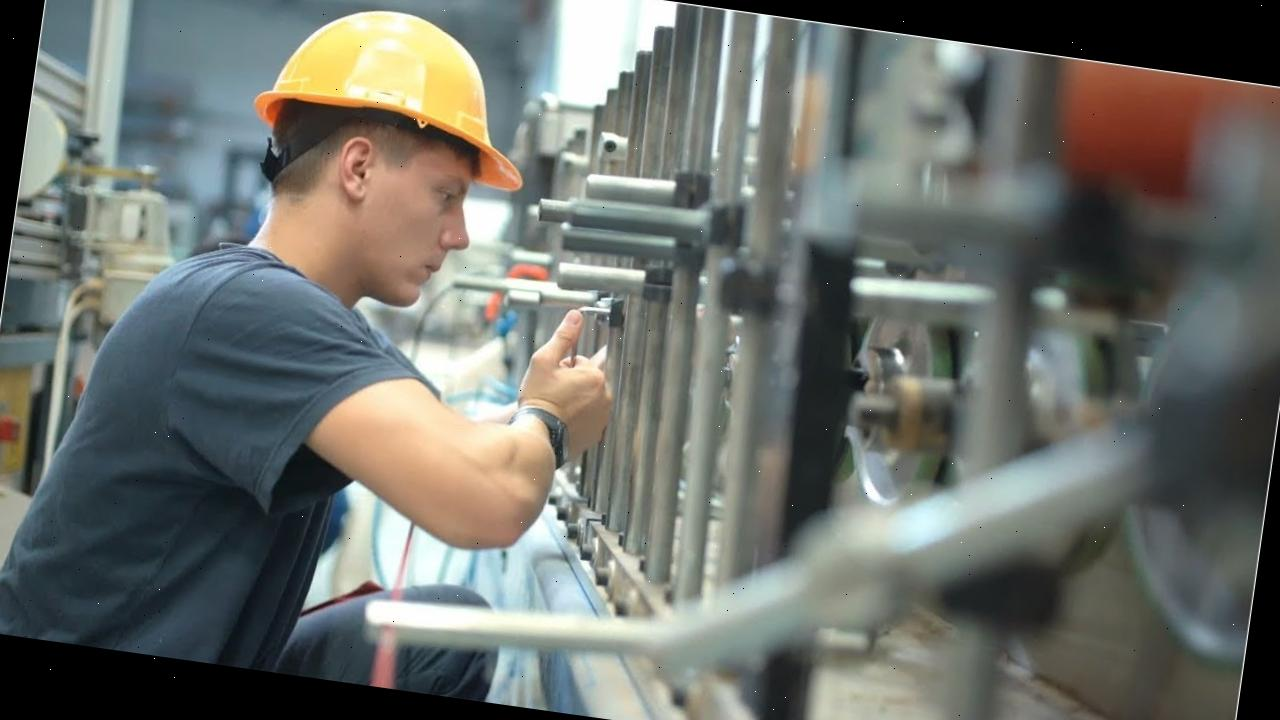helmet: (244, 0, 548, 195)
no_wear: (0, 227, 366, 677)
